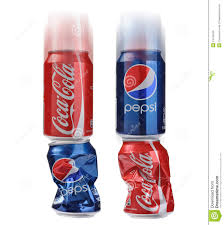can: (36, 38, 97, 140), (39, 134, 108, 215), (116, 46, 169, 147), (119, 142, 171, 218)
